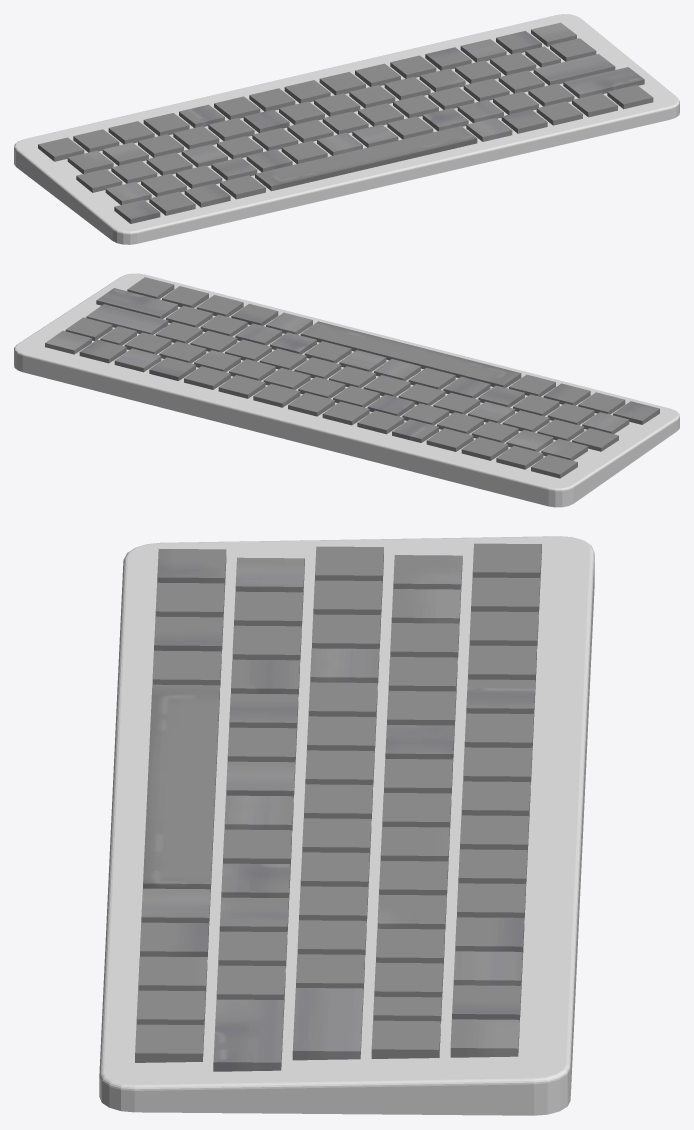
Rendered from teclado.glb.
3 renders of one model, top to bottom at view 1: azimuth 30°, elevation 25°; view 2: azimuth 150°, elevation 25°; view 3: azimuth 270°, elevation 25°, orthographic. The views are drawn at different scales.
Visible parts, largest first — view 1: Cube; view 2: Cube; view 3: Cube.
Boxes of the visible parts, <box> form: Cube: <box>14,14,679,244</box>; Cube: <box>14,273,679,507</box>; Cube: <box>99,536,594,1115</box>.
Bounding box in the file's own units: 3.46 × 0.1272 × 1.32.
Materials: 2 (1 with a texture image).
